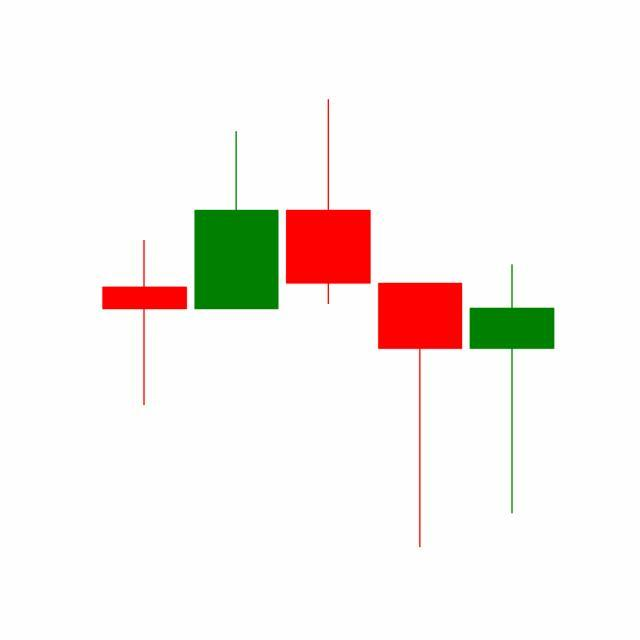Hammer: (374, 280, 468, 551)
